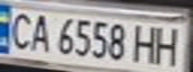5: (90, 19, 112, 61), (72, 17, 93, 59)
6: (51, 15, 75, 56)
8: (106, 20, 130, 62)
A: (24, 11, 54, 53)
C: (3, 9, 36, 51)
H: (151, 24, 187, 66), (130, 22, 163, 65)
